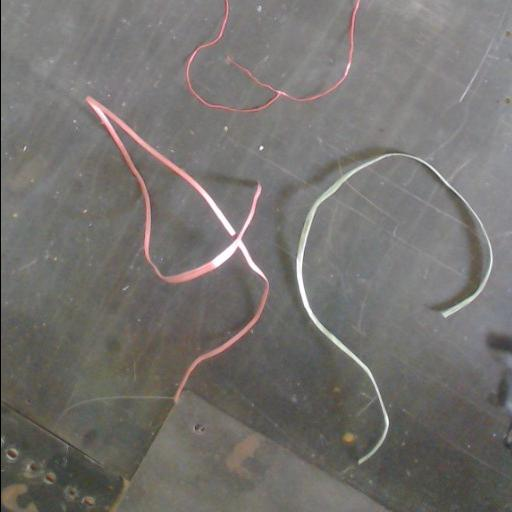conveyor belt: (1, 0, 512, 511), (191, 0, 353, 107), (136, 150, 229, 273)
thread: (295, 152, 492, 463), (86, 97, 268, 400), (184, 0, 360, 112)
